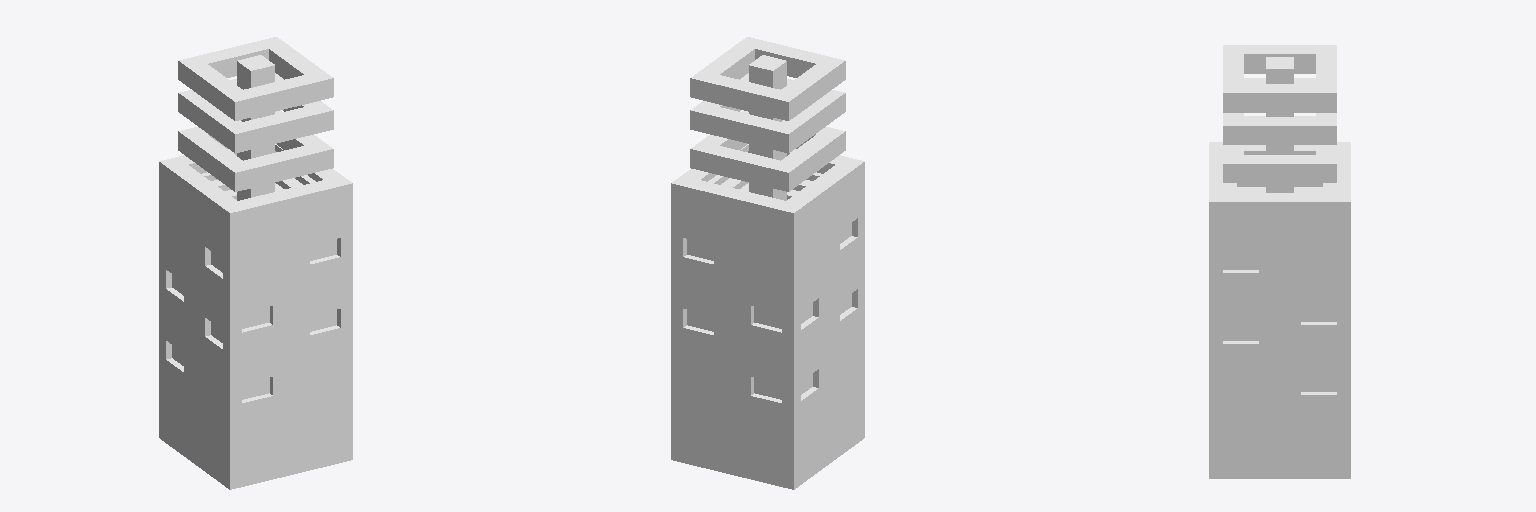
Rendered from GlowingTower.obj.
3 renders of one model, left to right at view 1: azimuth 30°, elevation 25°; view 2: azimuth 150°, elevation 25°; view 3: azimuth 270°, elevation 25°, orthographic.
Bounding box in the file's own units: 20 × 60 × 20.